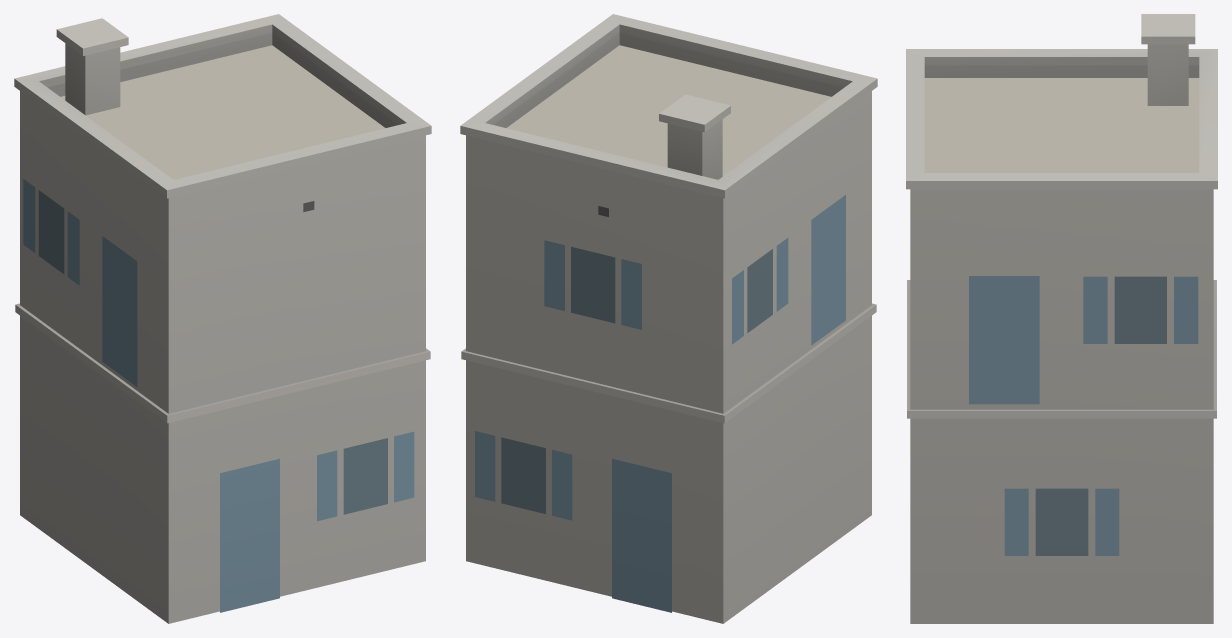
3 renders of one model, left to right at view 1: azimuth 30°, elevation 25°; view 2: azimuth 150°, elevation 25°; view 3: azimuth 270°, elevation 25°, orthographic. The views are drawn at different scales.
Size of the model in its own units: 4.4 by 7.72 by 4.4.
